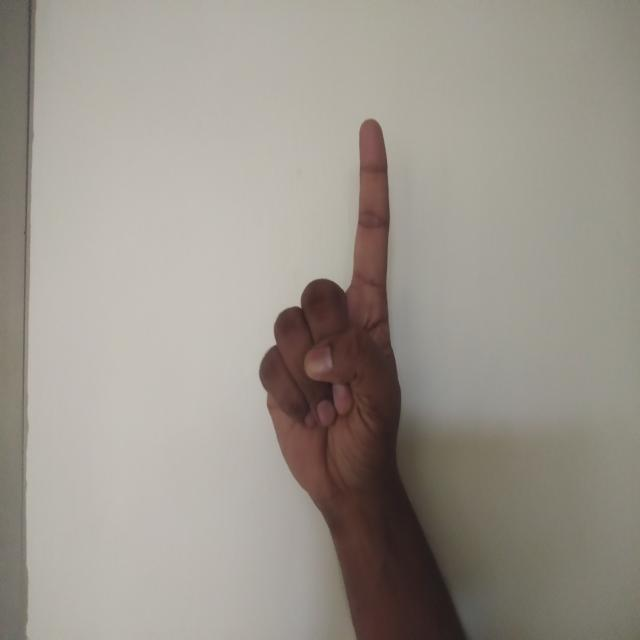IloveYou: (249, 100, 416, 530)
